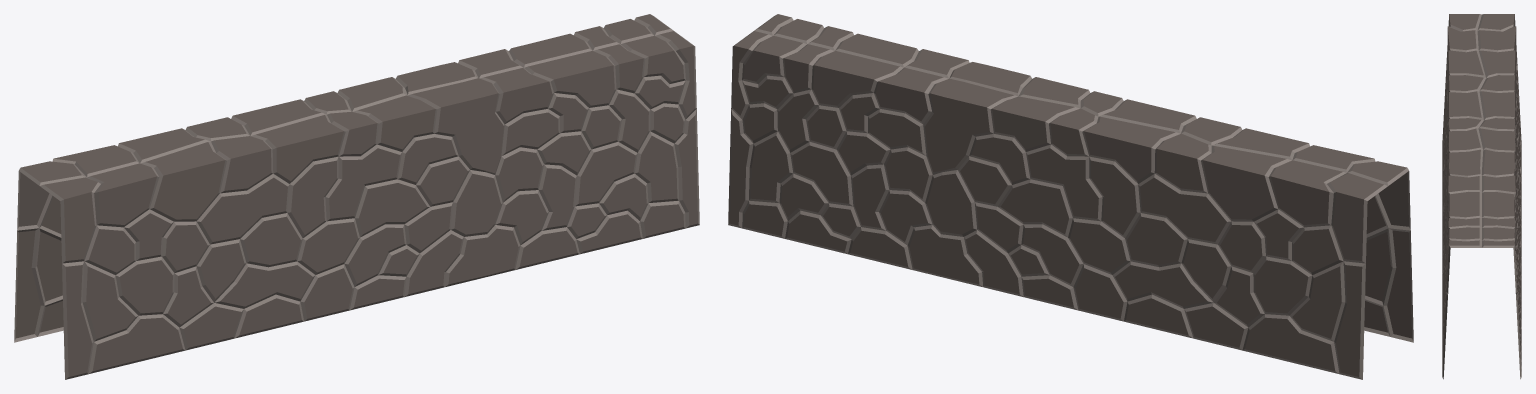
Rendered from Basement_Line_Long.fbx.
3 renders of one model, left to right at view 1: azimuth 30°, elevation 25°; view 2: azimuth 150°, elevation 25°; view 3: azimuth 270°, elevation 25°, orthographic. The views are drawn at different scales.
Visible parts, largest first — view 1: Basement_Line_Long; view 2: Basement_Line_Long; view 3: Basement_Line_Long.
Boxes of the visible parts, x1,y1,x2,y2 form: Basement_Line_Long: (14, 14, 699, 379); Basement_Line_Long: (728, 14, 1413, 379); Basement_Line_Long: (1442, 14, 1521, 379).
Size of the model in its own units: 3.6 by 0.5186 by 0.96.
